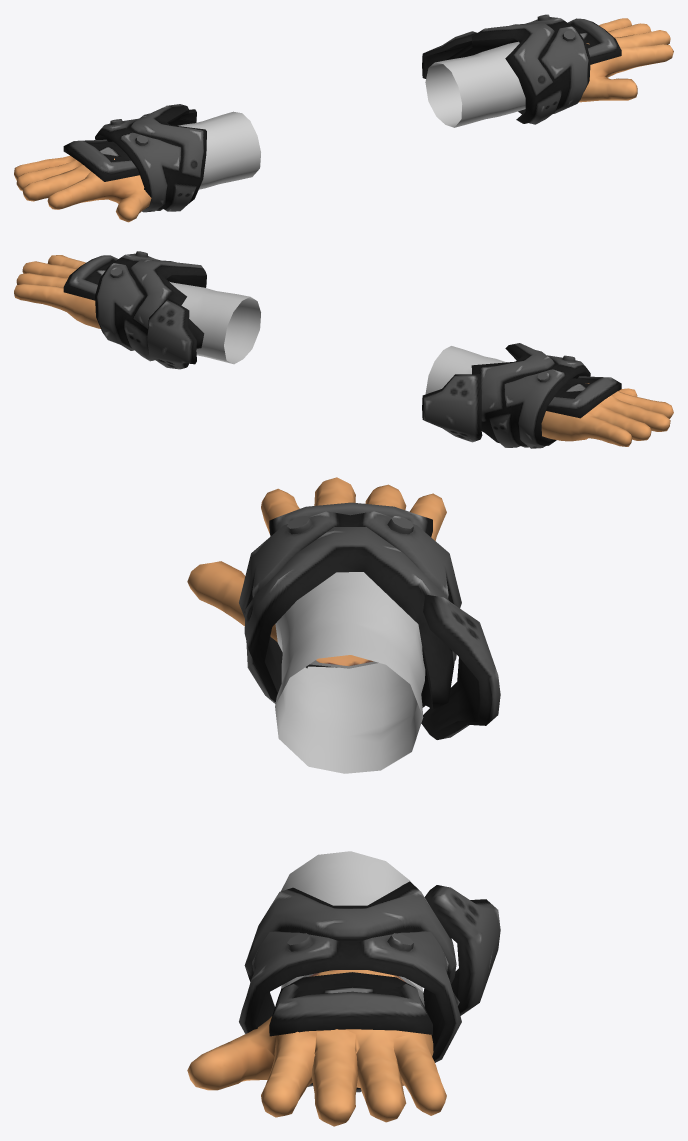
The picture shows the model from 3 angles, top to bottom: view 1: azimuth 30°, elevation 25°; view 2: azimuth 150°, elevation 25°; view 3: azimuth 270°, elevation 25°; orthographic projection. The views are drawn at different scales.
Parts seen in each view (by area): view 1: model_0_submesh_0, model_0_submesh_1, model_0_submesh_2; view 2: model_0_submesh_0, model_0_submesh_2, model_0_submesh_1; view 3: model_0_submesh_0, model_0_submesh_1, model_0_submesh_2.
Boxes of the visible parts, x1,y1,x2,y2 form: model_0_submesh_0: [63, 14, 621, 212]; model_0_submesh_1: [178, 41, 525, 189]; model_0_submesh_2: [14, 18, 673, 222]; model_0_submesh_0: [63, 251, 621, 448]; model_0_submesh_2: [14, 255, 673, 446]; model_0_submesh_1: [169, 281, 505, 394]; model_0_submesh_0: [239, 502, 500, 1092]; model_0_submesh_1: [275, 572, 425, 1006]; model_0_submesh_2: [187, 477, 446, 1126].
Size of the model in its own units: 3.6 by 0.4633 by 0.7564.
